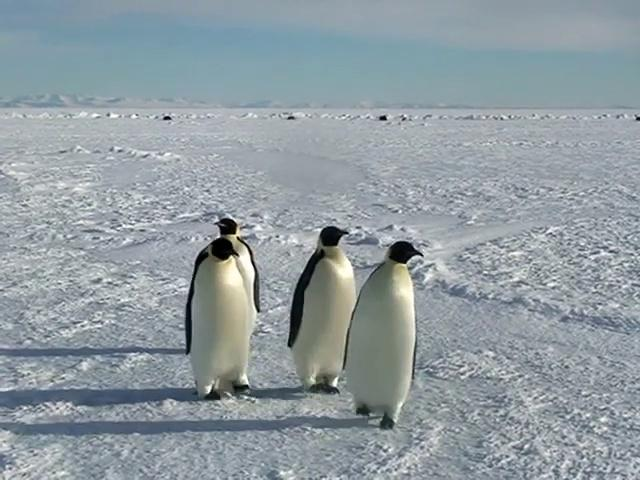animal: (345, 242, 424, 429)
